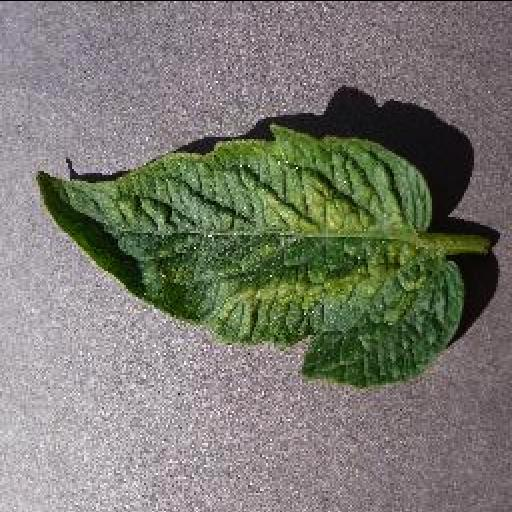disease_tomato: (33, 124, 467, 386)
